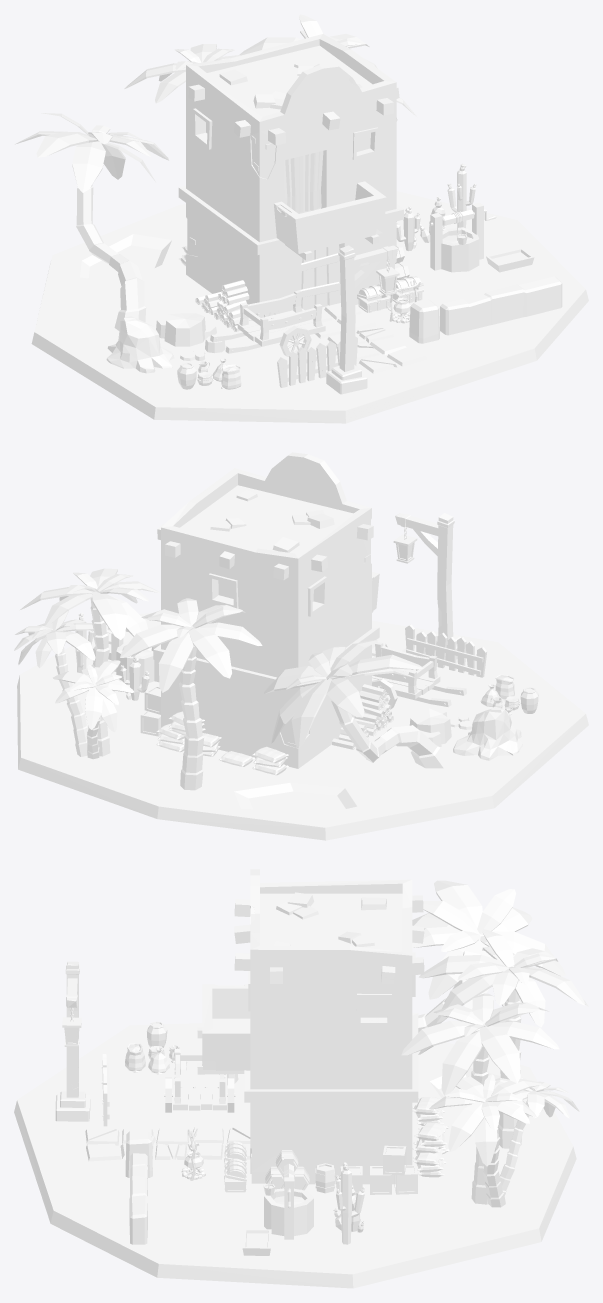
File: home.gltf
3 renders of one model, top to bottom at view 1: azimuth 30°, elevation 25°; view 2: azimuth 150°, elevation 25°; view 3: azimuth 270°, elevation 25°, orthographic. The views are drawn at different scales.
Parts seen in each view (by area): view 1: Building, ground, palm01, stone fence01, Lamp, cart, well, rock02, Wooden fance, palm02, rock01, palm03 (+9 smaller); view 2: ground, Building, palm03, palm01, palm02, Lamp, cart, rock02, Wooden fance, log03, bag03, well (+4 smaller); view 3: ground, Building, palm03, palm01, palm02, cart, Lamp, well, box02, stone fence01, bag03, tile01 (+9 smaller).
Part boxes in pixels (box(x1,y1,x2,y2)): Building: box(178, 34, 403, 317); ground: box(31, 191, 588, 423); palm01: box(15, 113, 168, 330); stone fence01: box(440, 276, 562, 335); Lamp: box(326, 245, 399, 394); cart: box(210, 290, 325, 356); well: box(430, 202, 496, 272); rock02: box(106, 316, 174, 373); Wooden fance: box(277, 336, 357, 387); palm02: box(124, 44, 240, 103); rock01: box(156, 313, 216, 346); palm03: box(239, 14, 416, 121); ground: box(17, 613, 588, 840); Building: box(153, 452, 379, 768); palm03: box(14, 568, 159, 759); palm01: box(264, 640, 450, 768); palm02: box(120, 598, 262, 790); Lamp: box(393, 513, 466, 660); cart: box(372, 642, 466, 709); rock02: box(453, 706, 522, 760); Wooden fance: box(405, 624, 487, 677); log03: box(354, 684, 393, 736); bag03: box(156, 711, 221, 756); well: box(108, 625, 160, 684); ground: box(14, 1023, 576, 1288); Building: box(197, 869, 424, 1184); palm03: box(401, 993, 579, 1207); palm01: box(412, 880, 565, 1032); palm02: box(419, 929, 588, 1148); cart: box(164, 1049, 235, 1112); Lamp: box(55, 961, 90, 1121); well: box(264, 1155, 313, 1239); box02: box(370, 1145, 417, 1194); stone fence01: box(129, 1153, 147, 1244); bag03: box(412, 1122, 449, 1177); tile01: box(190, 1126, 250, 1159).
Size of the model in its own units: 15.14 by 7.68 by 14.19.
1 material, 1 textured.
